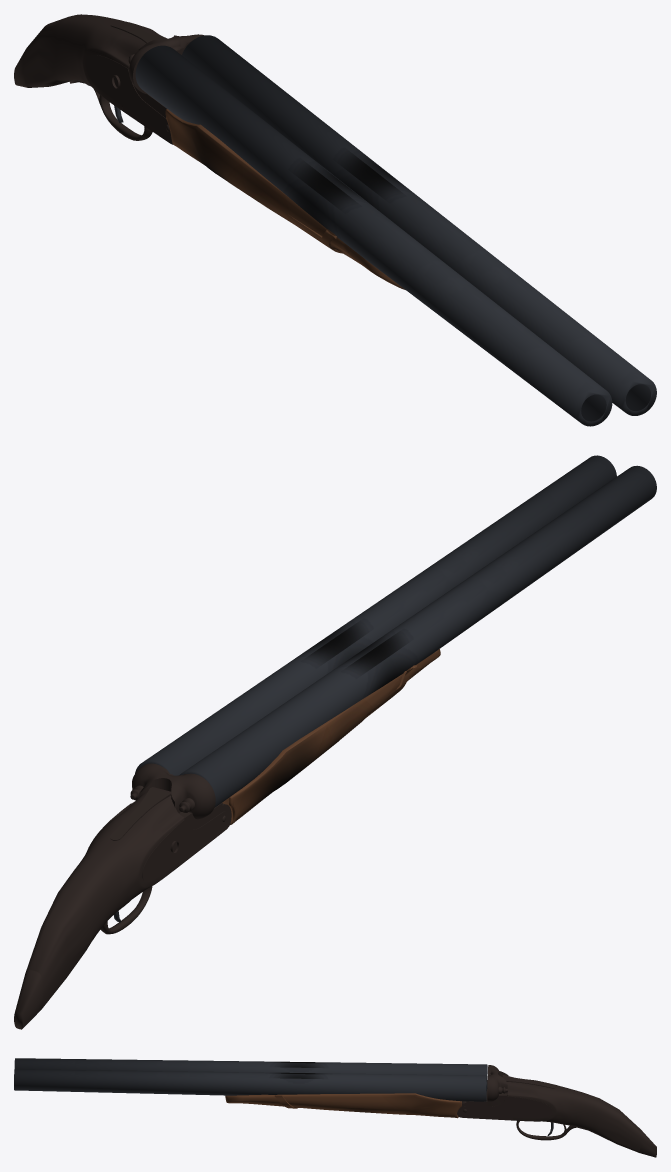
Rendered from Shotgun.glb.
The picture shows the model from 3 angles, top to bottom: view 1: azimuth 30°, elevation 25°; view 2: azimuth 150°, elevation 25°; view 3: azimuth 270°, elevation 25°; orthographic projection. The views are drawn at different scales.
Parts seen in each view (by area): view 1: Shotgun_1, Shotgun_2, Shotgun_Main, Shotgun_Handel; view 2: Shotgun_1, Shotgun_Main, Shotgun_2, Shotgun_Handel; view 3: Shotgun_2, Shotgun_Main, Shotgun_1, Shotgun_Handel.
Boxes of the visible parts, left/top/right/bottom form: Shotgun_1: left=135, top=45, right=612, bottom=426; Shotgun_2: left=182, top=35, right=656, bottom=415; Shotgun_Main: left=14, top=14, right=204, bottom=144; Shotgun_Handel: left=165, top=109, right=404, bottom=289; Shotgun_1: left=179, top=465, right=656, bottom=807; Shotgun_Main: left=14, top=763, right=231, bottom=1029; Shotgun_2: left=135, top=455, right=616, bottom=775; Shotgun_Handel: left=222, top=649, right=440, bottom=824; Shotgun_2: left=14, top=1069, right=486, bottom=1101; Shotgun_Main: left=457, top=1065, right=656, bottom=1157; Shotgun_1: left=14, top=1058, right=487, bottom=1088; Shotgun_Handel: left=225, top=1093, right=461, bottom=1118.
Bounding box in the file's own units: 0.0766 × 0.1068 × 0.7288.
Materials: 3 (3 with a texture image).
